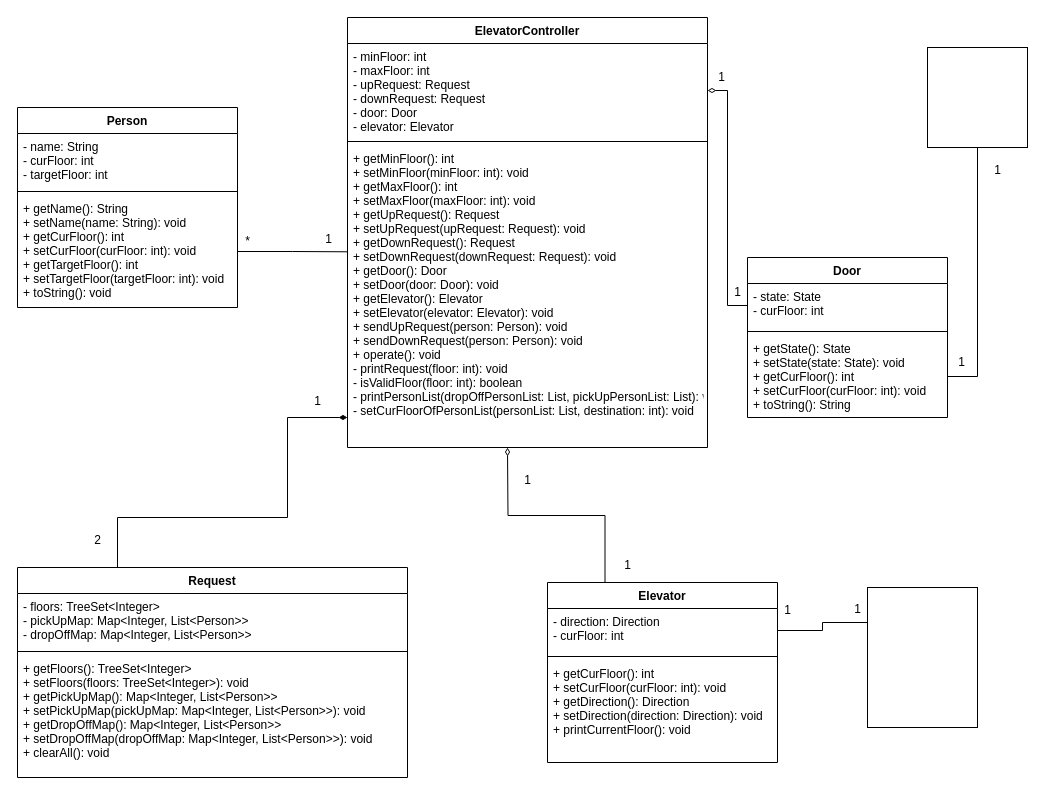
The diagram is 1045 pixels wide and 798 high, and some of its shapes have lost their labels. The centre of each missing label's shape, as x and y in pixels:
<<enumerator>> Direction Up Down Waiting Idle: [922,657]
<<enumerator>> State Opened Closed: [977,97]
